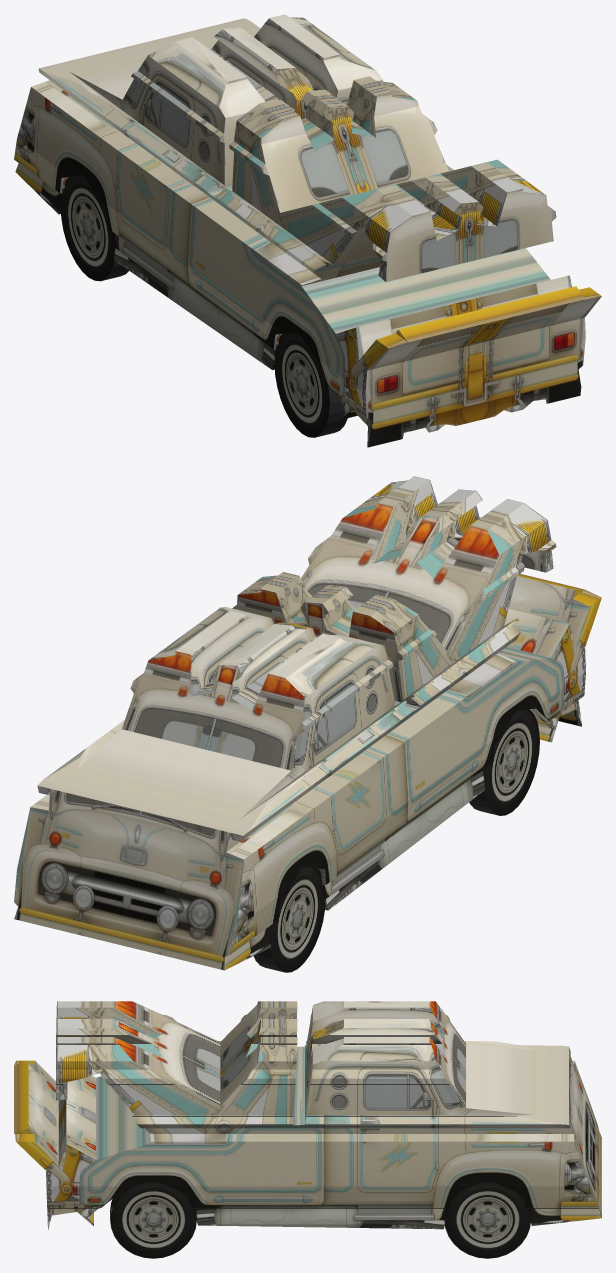
The model's file is tow_truck.glb.
3 renders of one model, top to bottom at view 1: azimuth 30°, elevation 25°; view 2: azimuth 150°, elevation 25°; view 3: azimuth 270°, elevation 25°, orthographic. The views are drawn at different scales.
Visible parts, largest first — view 1: tow_truck, wheel_BL, wheel_FL; view 2: tow_truck, wheel_BL, wheel_FL; view 3: tow_truck, wheel_BR, wheel_FR.
Part boxes in pixels (box(x1,y1,x2,y2)): tow_truck: box(14, 14, 601, 447); wheel_BL: box(274, 332, 347, 437); wheel_FL: box(60, 175, 128, 281); tow_truck: box(14, 476, 601, 970); wheel_BL: box(469, 709, 539, 815); wheel_FL: box(253, 866, 325, 972); tow_truck: box(14, 1001, 601, 1229); wheel_BR: box(110, 1180, 196, 1258); wheel_FR: box(444, 1180, 530, 1258).
Size of the model in its own units: 2.36 by 2.58 by 6.99.
Materials: 3 (1 with a texture image).
